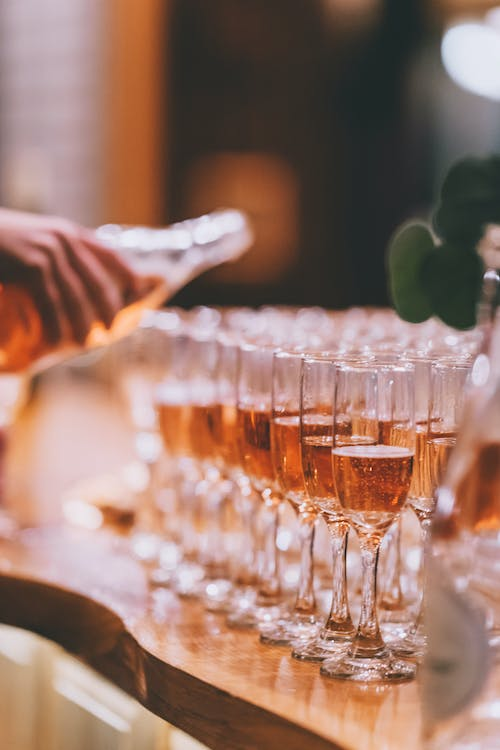alcohol: (0, 201, 259, 380), (420, 297, 500, 750), (220, 344, 338, 637), (319, 358, 419, 688), (288, 355, 393, 665), (144, 324, 256, 588), (173, 332, 281, 601), (204, 335, 307, 615), (257, 350, 354, 646), (127, 307, 193, 564), (383, 357, 432, 657), (426, 358, 474, 518)
